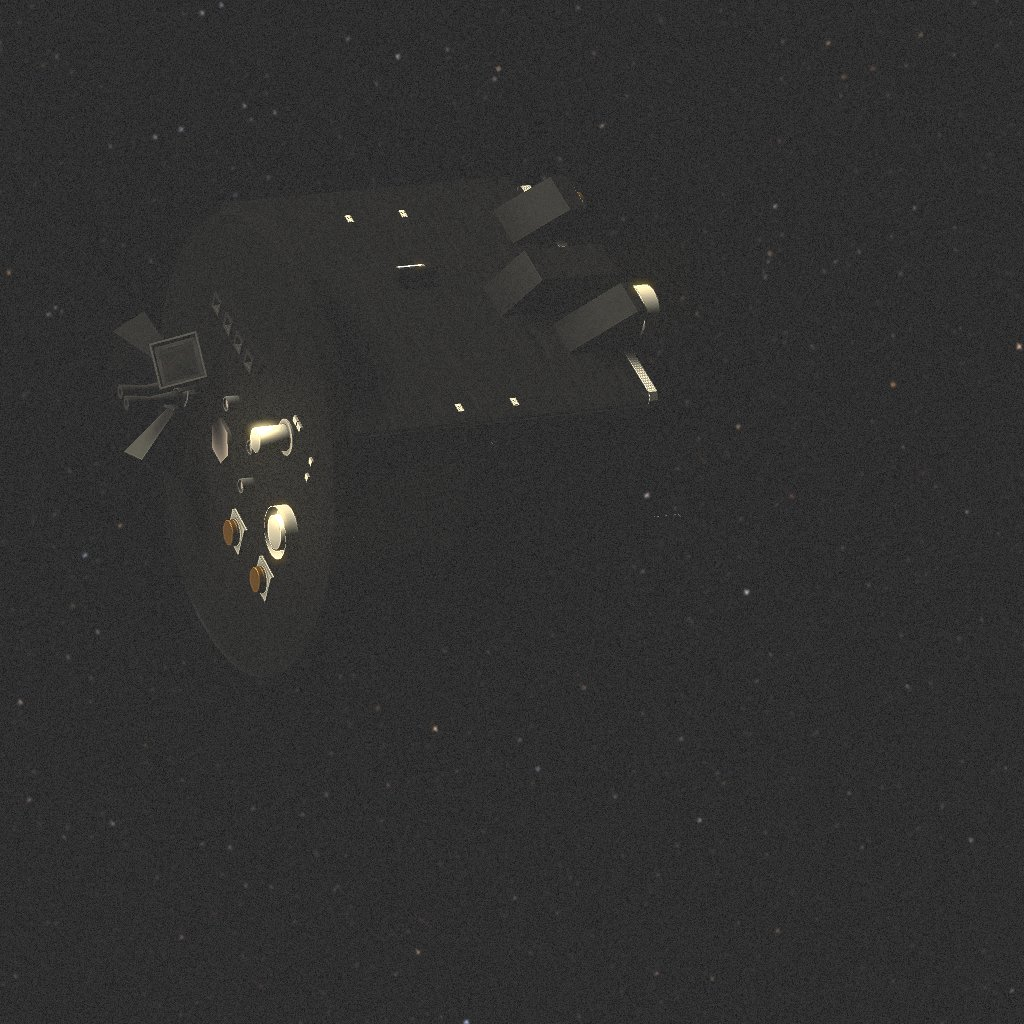proba_3_ocs: (106, 175, 684, 678)
